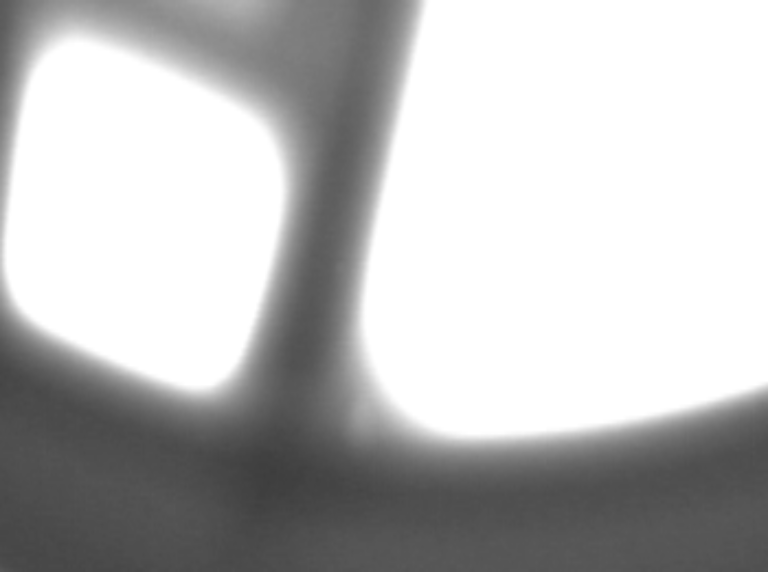defect: (342, 402, 382, 470)
